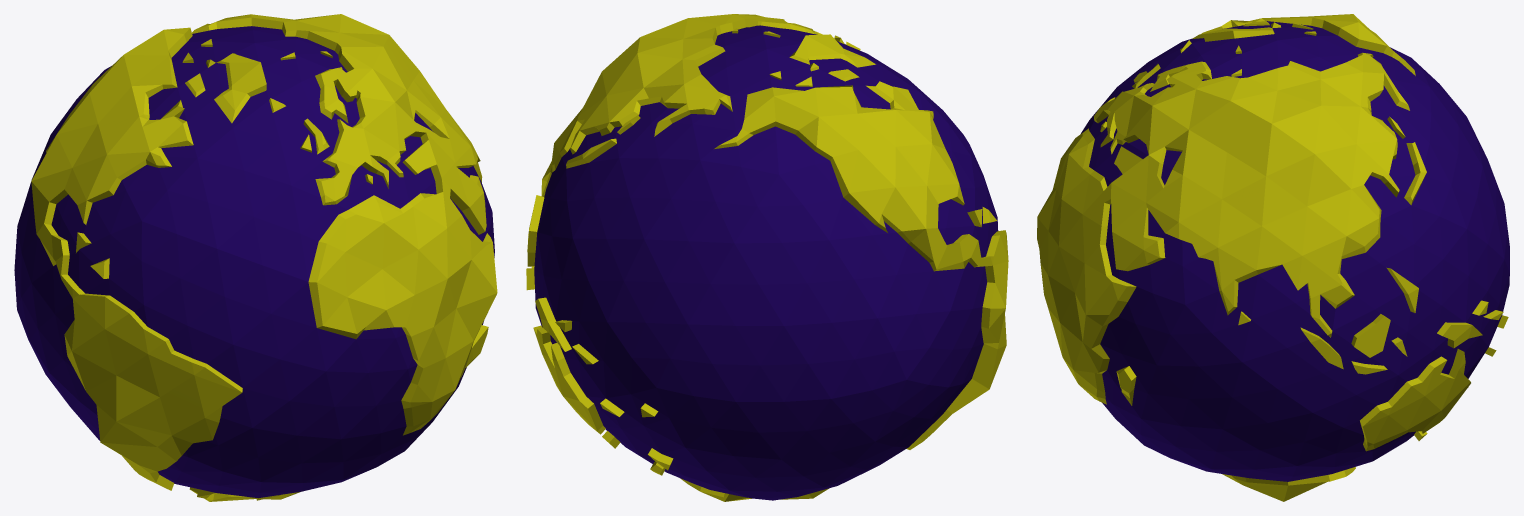
Rendered from earth3.glb.
3 renders of one model, left to right at view 1: azimuth 30°, elevation 25°; view 2: azimuth 150°, elevation 25°; view 3: azimuth 270°, elevation 25°, orthographic. The views are drawn at different scales.
Parts seen in each view (by area): view 1: earth4; view 2: earth4; view 3: earth4.
Part boxes in pixels (x1=…): earth4: x1=14, y1=14, x2=497, y2=501; earth4: x1=526, y1=14, x2=1008, y2=501; earth4: x1=1037, y1=14, x2=1509, y2=501.
Size of the model in its own units: 0.1733 by 0.1794 by 0.1729.
